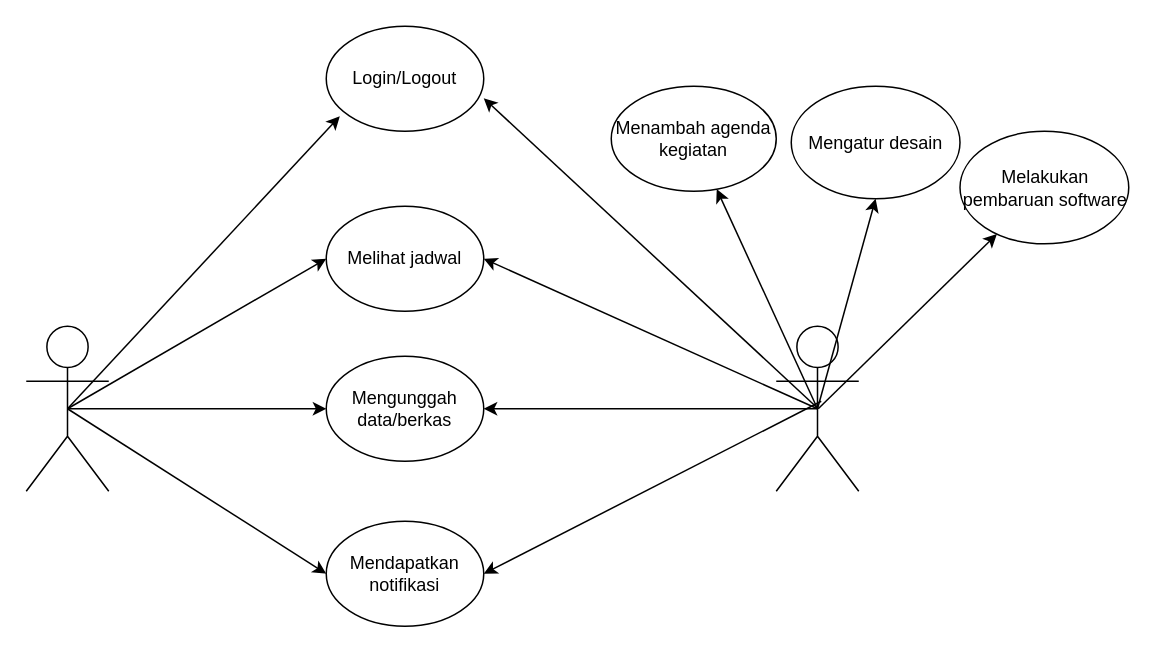
Some shapes in this 1155 by 653 pixel diagram are drawn without their labels. The shapes that lost their labels are listed below. From the top down, each one's centre as x and y in pixels, then its label:
At point 67,408: "User".
At point 817,408: "Admin".
